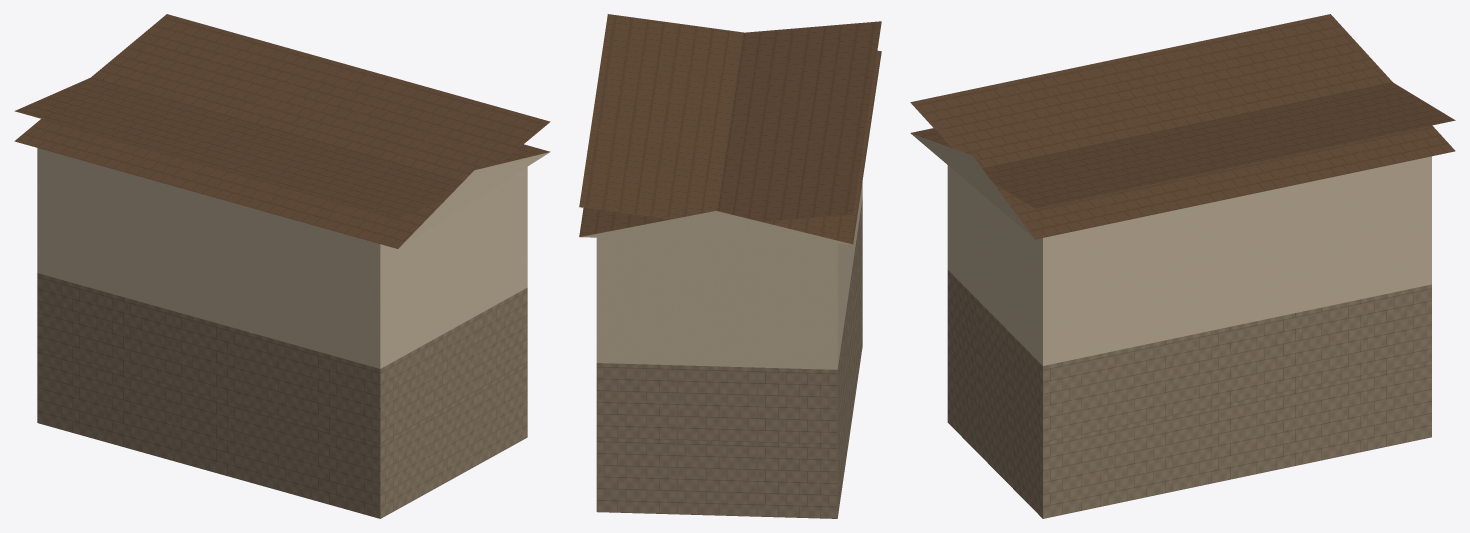
The model's file is bld_c42_48_187.gltf.
The picture shows the model from 3 angles, left to right: view 1: azimuth 30°, elevation 25°; view 2: azimuth 150°, elevation 25°; view 3: azimuth 270°, elevation 25°; orthographic projection. The views are drawn at different scales.
Visible parts, largest first — view 1: bld_c42_48_187; view 2: bld_c42_48_187; view 3: bld_c42_48_187.
Boxes of the visible parts, x1=… form: bld_c42_48_187: x1=14, y1=14, x2=550, y2=518; bld_c42_48_187: x1=579, y1=14, x2=881, y2=518; bld_c42_48_187: x1=910, y1=14, x2=1455, y2=518.
Size of the model in its own units: 13.59 by 10.4 by 16.09.
4 materials, 4 textured.
